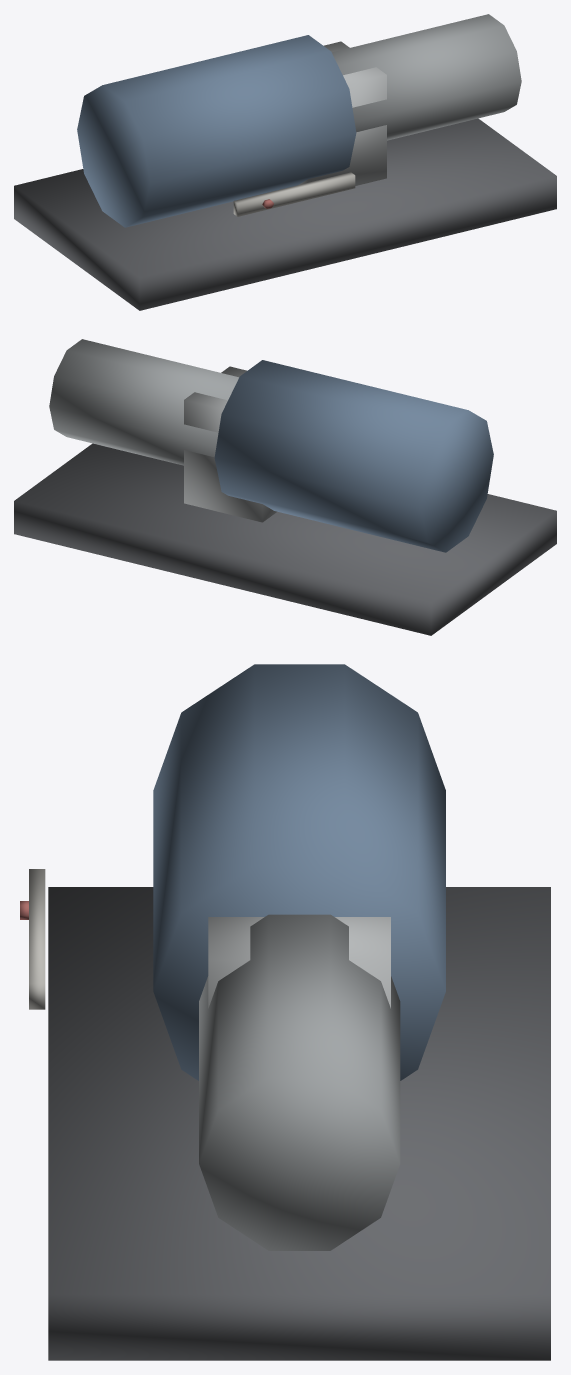
The model's file is pump_skid__wide.glb.
3 views of the same model, one above another, from view 1: azimuth 30°, elevation 25°; view 2: azimuth 150°, elevation 25°; view 3: azimuth 270°, elevation 25° (orthographic). The views are drawn at different scales.
Parts seen in each view (by area): view 1: world; view 2: world; view 3: world.
Boxes of the visible parts, x1,y1,x2,y2 form: world: (14, 14, 556, 310); world: (14, 339, 556, 635); world: (20, 664, 550, 1360).
Bounding box in the file's own units: 1.06 × 0.3922 × 0.581.
